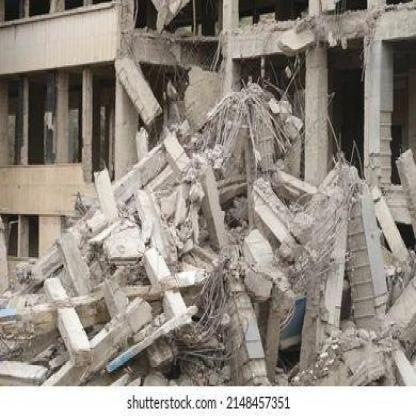rebar: (286, 171, 360, 304), (172, 256, 249, 380), (210, 78, 289, 176)
